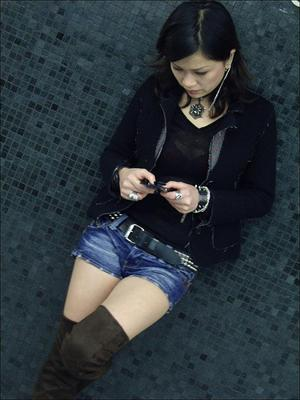person: (26, 3, 277, 400)
